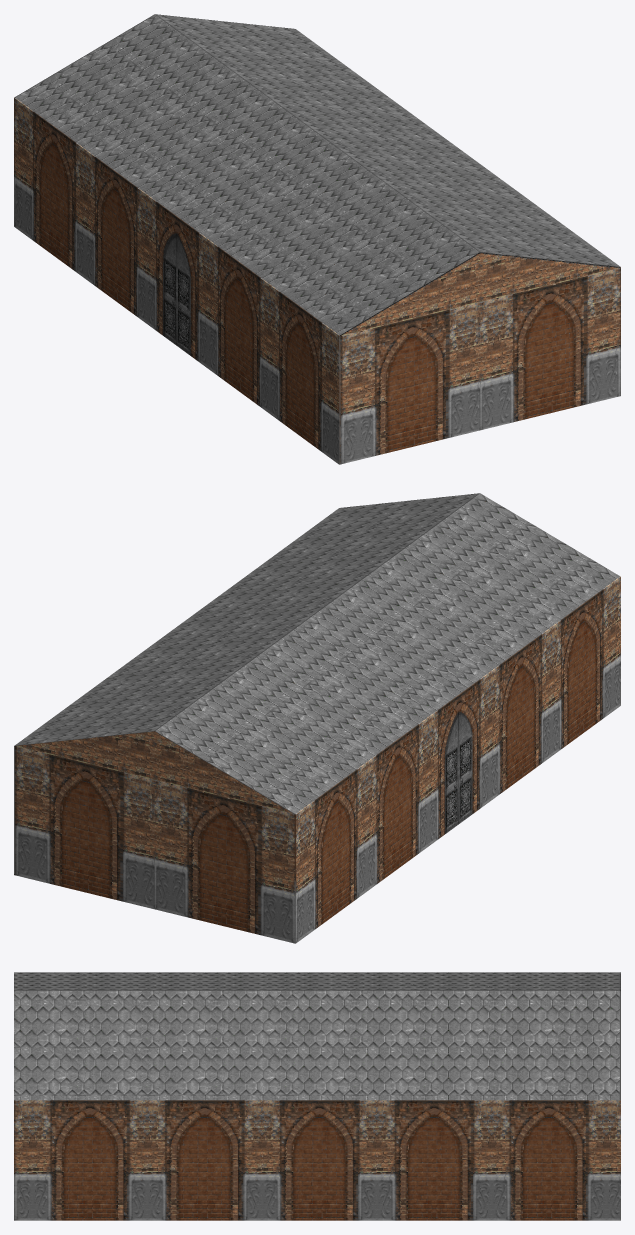
Rendered from tos-bldg04.dae.
3 views of the same model, one above another, from view 1: azimuth 30°, elevation 25°; view 2: azimuth 150°, elevation 25°; view 3: azimuth 270°, elevation 25° (orthographic). The views are drawn at different scales.
Parts seen in each view (by area): view 1: Plane; view 2: Plane; view 3: Plane.
Boxes of the visible parts, left/top/right/bottom form: Plane: left=14, top=14, right=620, bottom=464; Plane: left=14, top=493, right=620, bottom=943; Plane: left=14, top=972, right=620, bottom=1220.
Bounding box in the file's own units: 0.6097 × 1.22 × 0.3684.
1 material, 1 textured.
